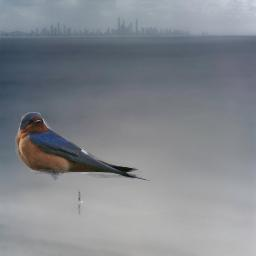Swallow: (15, 112, 151, 182)
